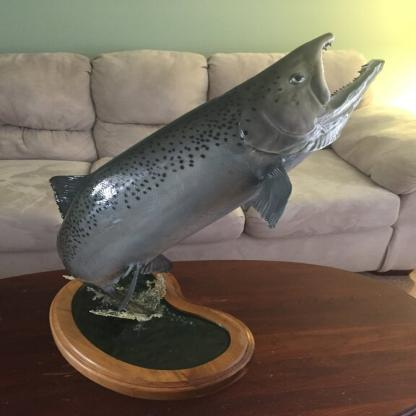fish: (51, 31, 386, 319)
